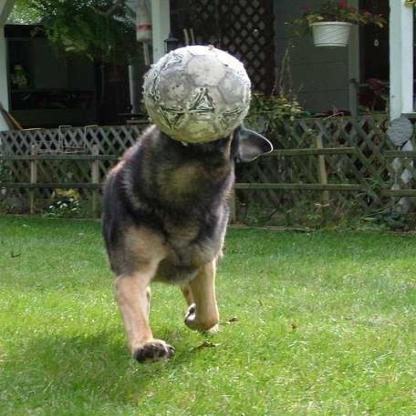ball: (145, 46, 250, 143)
